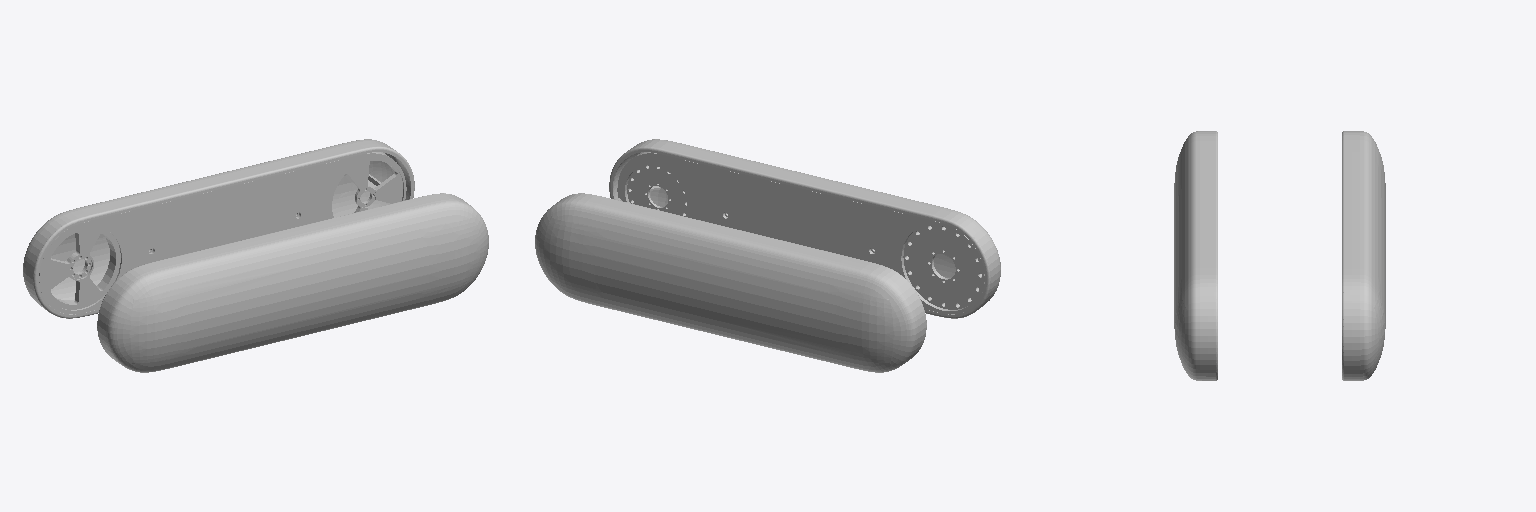
The model's file is leg_link2.obj.
The picture shows the model from 3 angles: view 1: azimuth 30°, elevation 25°; view 2: azimuth 150°, elevation 25°; view 3: azimuth 270°, elevation 25°; orthographic projection.
Visible parts, largest first — view 1: leg_link2; view 2: leg_link2; view 3: leg_link2.
Boxes of the visible parts, <box> form: leg_link2: <box>23,139,488,372</box>; leg_link2: <box>535,139,1000,372</box>; leg_link2: <box>1174,131,1385,380</box>.
Bounding box in the file's own units: 0.5207 × 0.1308 × 0.2502.